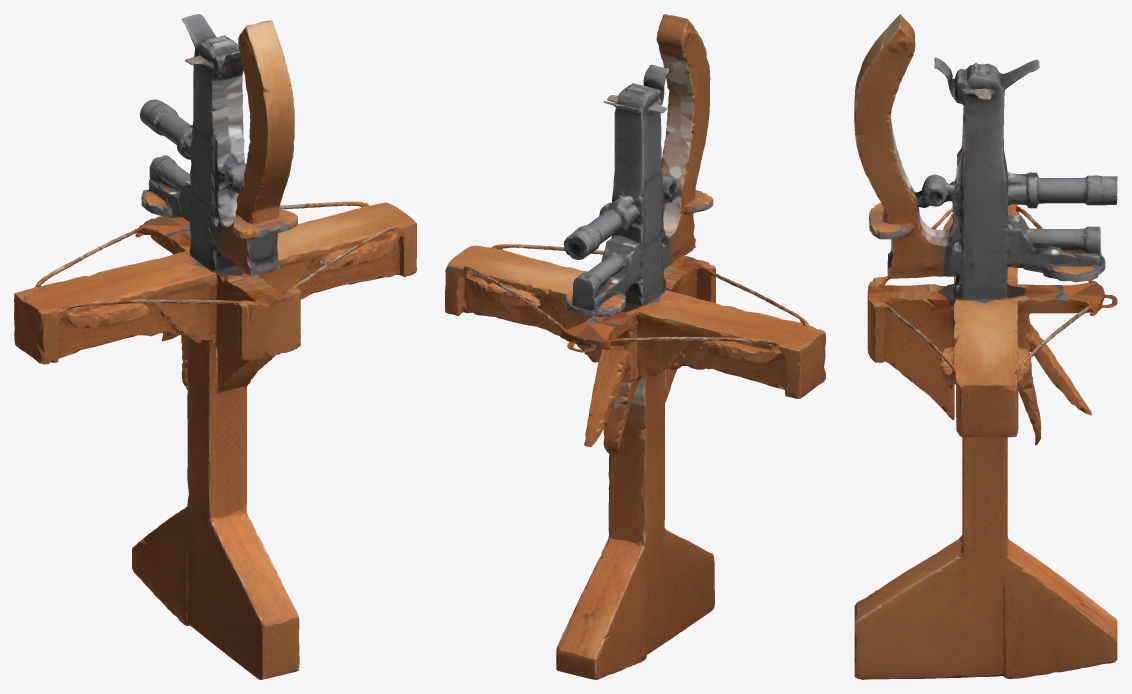
File: crossbow.glb
3 renders of one model, left to right at view 1: azimuth 30°, elevation 25°; view 2: azimuth 150°, elevation 25°; view 3: azimuth 270°, elevation 25°, orthographic. The views are drawn at different scales.
Parts seen in each view (by area): view 1: crossbow; view 2: crossbow; view 3: crossbow.
Boxes of the visible parts, <box> form: crossbow: <box>14,14,416,679</box>; crossbow: <box>445,14,825,679</box>; crossbow: <box>854,14,1117,679</box>.
Bounding box in the file's own units: 1.17 × 1.9 × 0.6974.
Materials: 1 (1 with a texture image).
